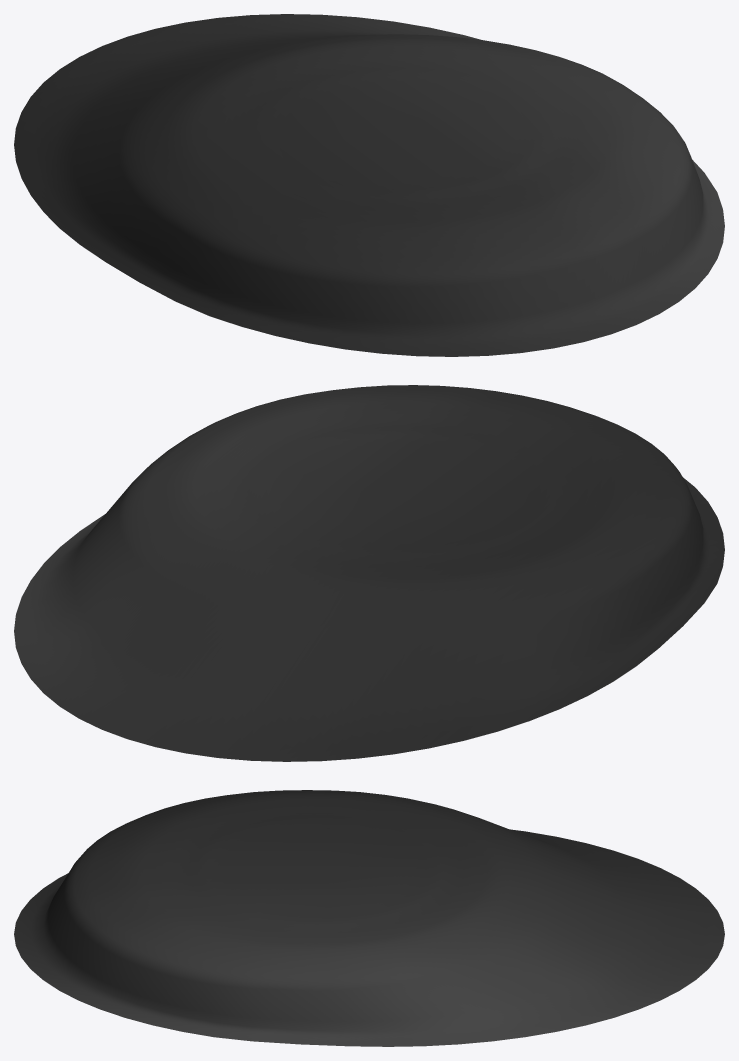
The model's file is FX_Md_Firmament_01.fbx.
The picture shows the model from 3 angles, top to bottom: view 1: azimuth 30°, elevation 25°; view 2: azimuth 150°, elevation 25°; view 3: azimuth 270°, elevation 25°; orthographic projection. The views are drawn at different scales.
Visible parts, largest first — view 1: pSphere1; view 2: pSphere1; view 3: pSphere1.
Boxes of the visible parts, <box> form: pSphere1: <box>14,14,724,356</box>; pSphere1: <box>14,385,724,761</box>; pSphere1: <box>14,790,724,1046</box>.
Bounding box in the file's own units: 9.36 × 1.23 × 12.49.
1 material, 1 textured.
